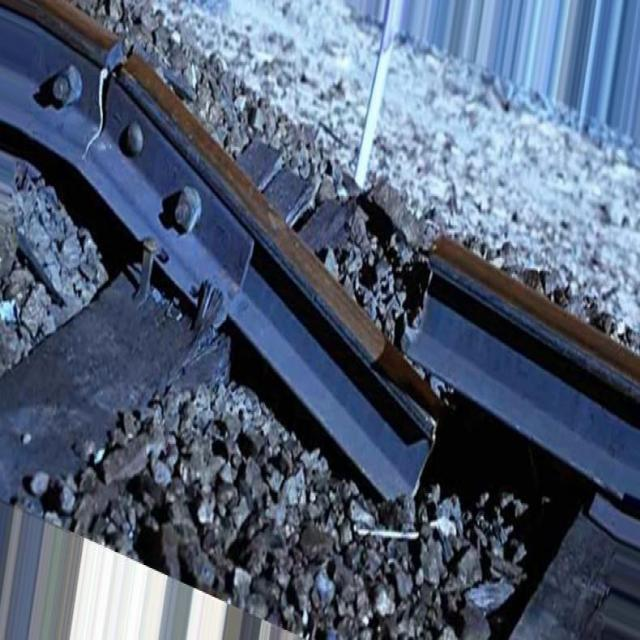crack: (58, 10, 146, 198)
